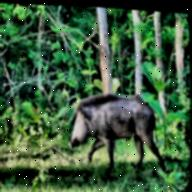boar: (50, 82, 173, 182)
